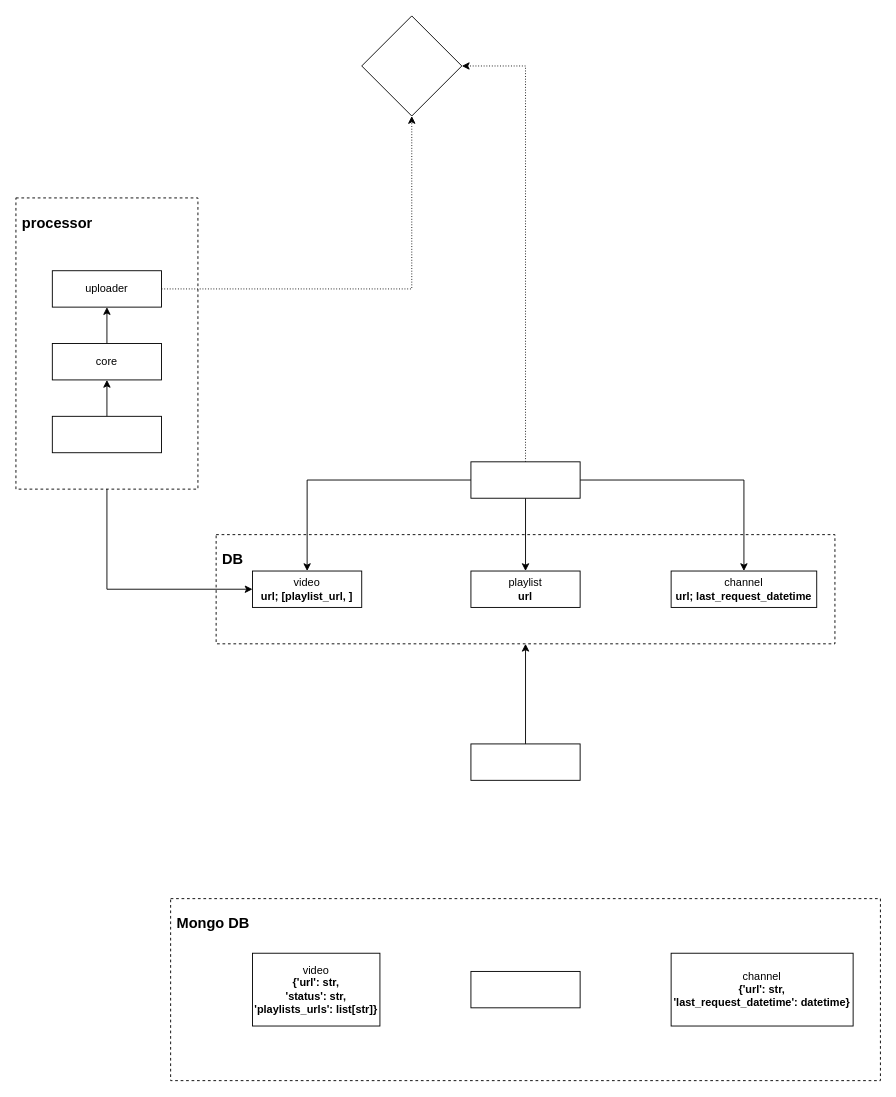
Image size: 896x1097. Some labels were removed from this diagram. The shapes that lost their labels are listed below. From the top down, each one's centre as x and y in pixels, then its label:
the point at 411,65: Google API
the point at 106,434: downloader
the point at 525,479: DB_manager
the point at 525,761: user_interface
the point at 525,989: playlist [url]
